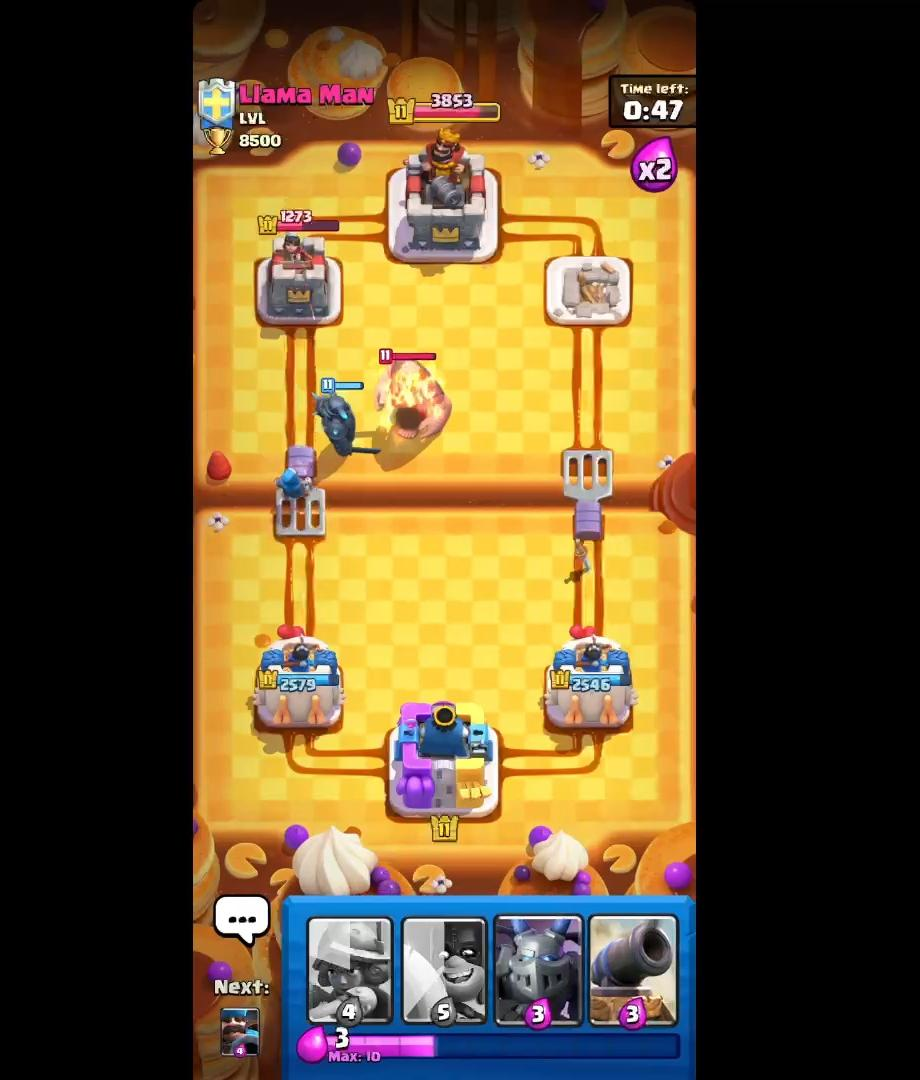Giant: (374, 346, 457, 450)
